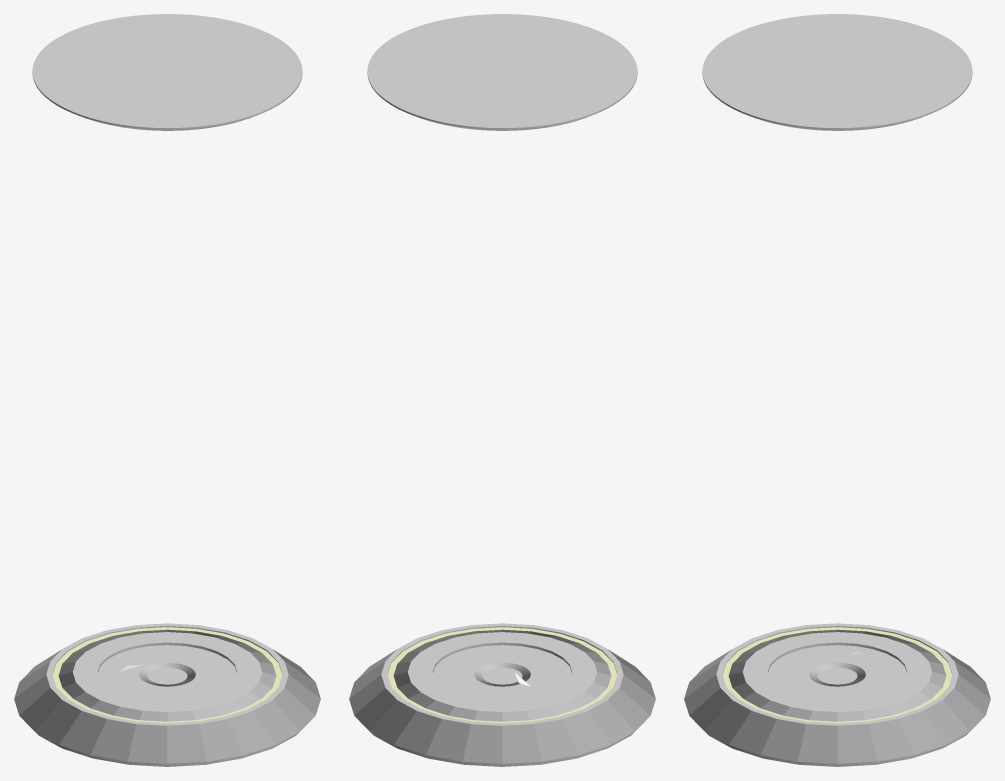
File: Body Beam_Holographic machine.fbx
3 renders of one model, left to right at view 1: azimuth 30°, elevation 25°; view 2: azimuth 150°, elevation 25°; view 3: azimuth 270°, elevation 25°, orthographic.
Visible parts, largest first — view 1: Group1, Top_transponder1; view 2: Group1, Top_transponder1; view 3: Group1, Top_transponder1.
Boxes of the visible parts, <box> form: Group1: <box>14,623,320,766</box>; Top_transponder1: <box>32,14,302,130</box>; Group1: <box>349,623,655,766</box>; Top_transponder1: <box>367,14,637,130</box>; Group1: <box>684,623,990,766</box>; Top_transponder1: <box>702,14,972,130</box>.
Bounding box in the file's own units: 61.48 × 140 × 61.48.
